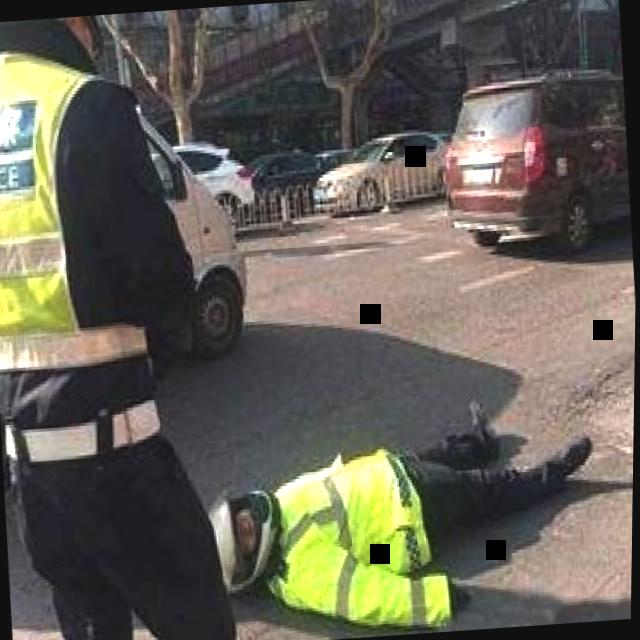Fall-Detected: (205, 375, 607, 640)
